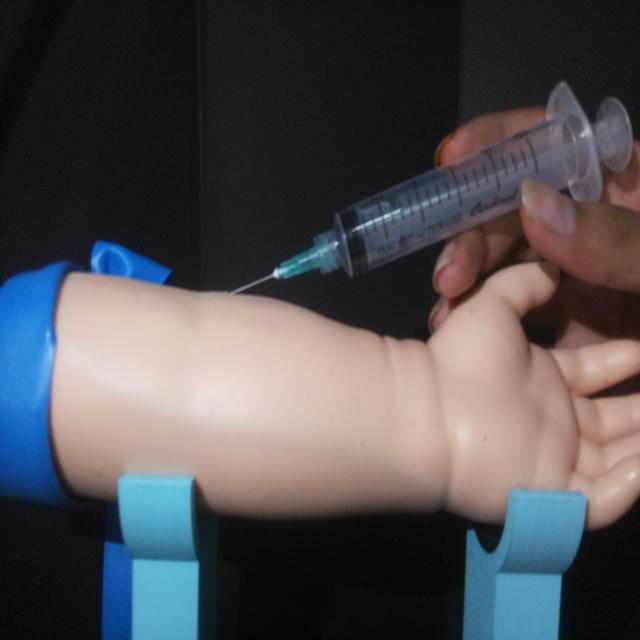23deg: (224, 78, 634, 300)
